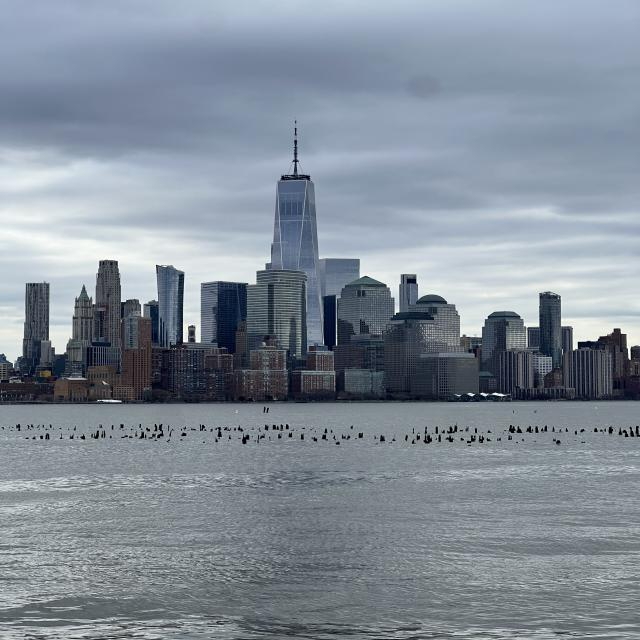WTC: (270, 120, 320, 271)
